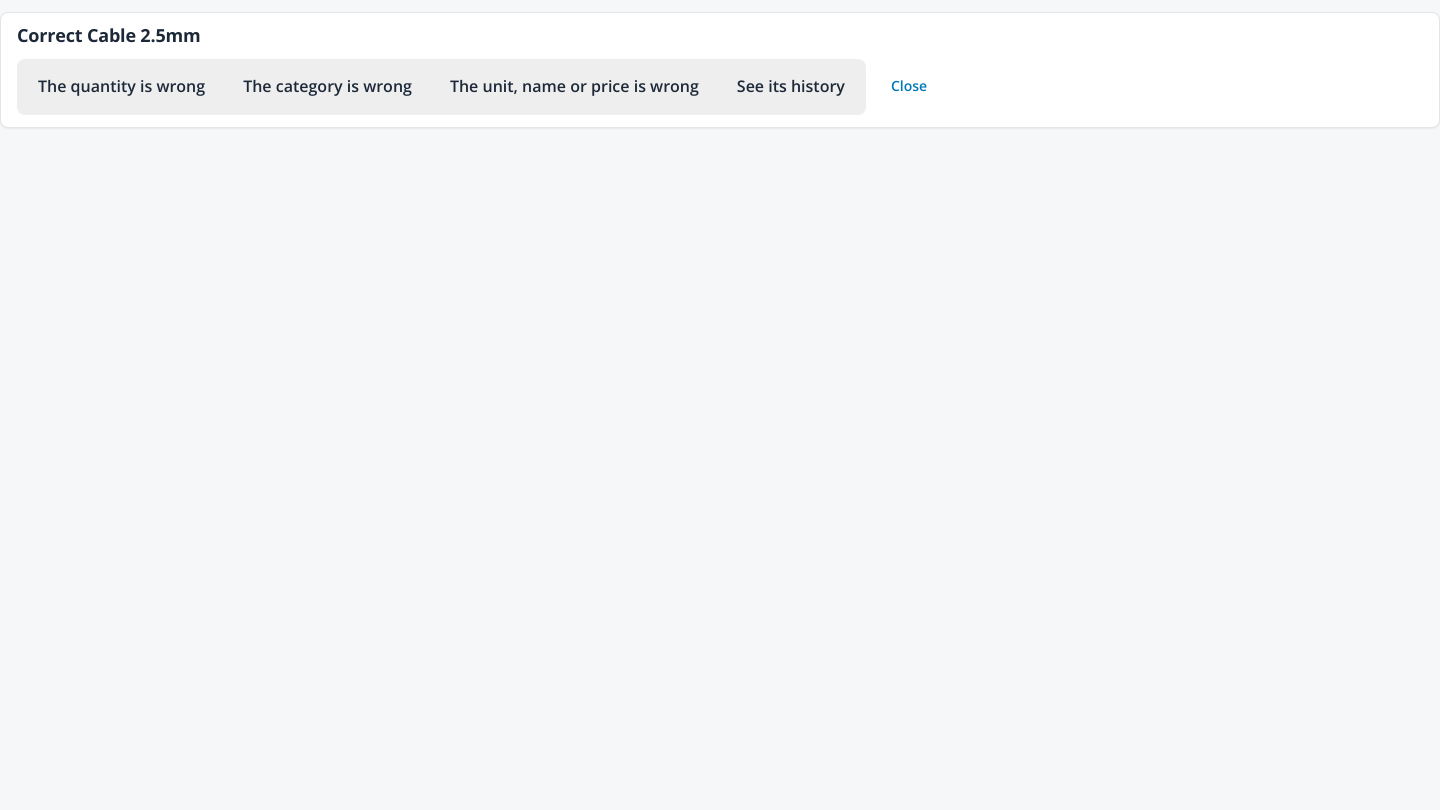
Test: the right quantity › starts with the quantity on the list and waits for a different quantity and a reason
Click the radio button labelled "The quantity is wrong".
click(122, 87)  # box [21,63,222,111]
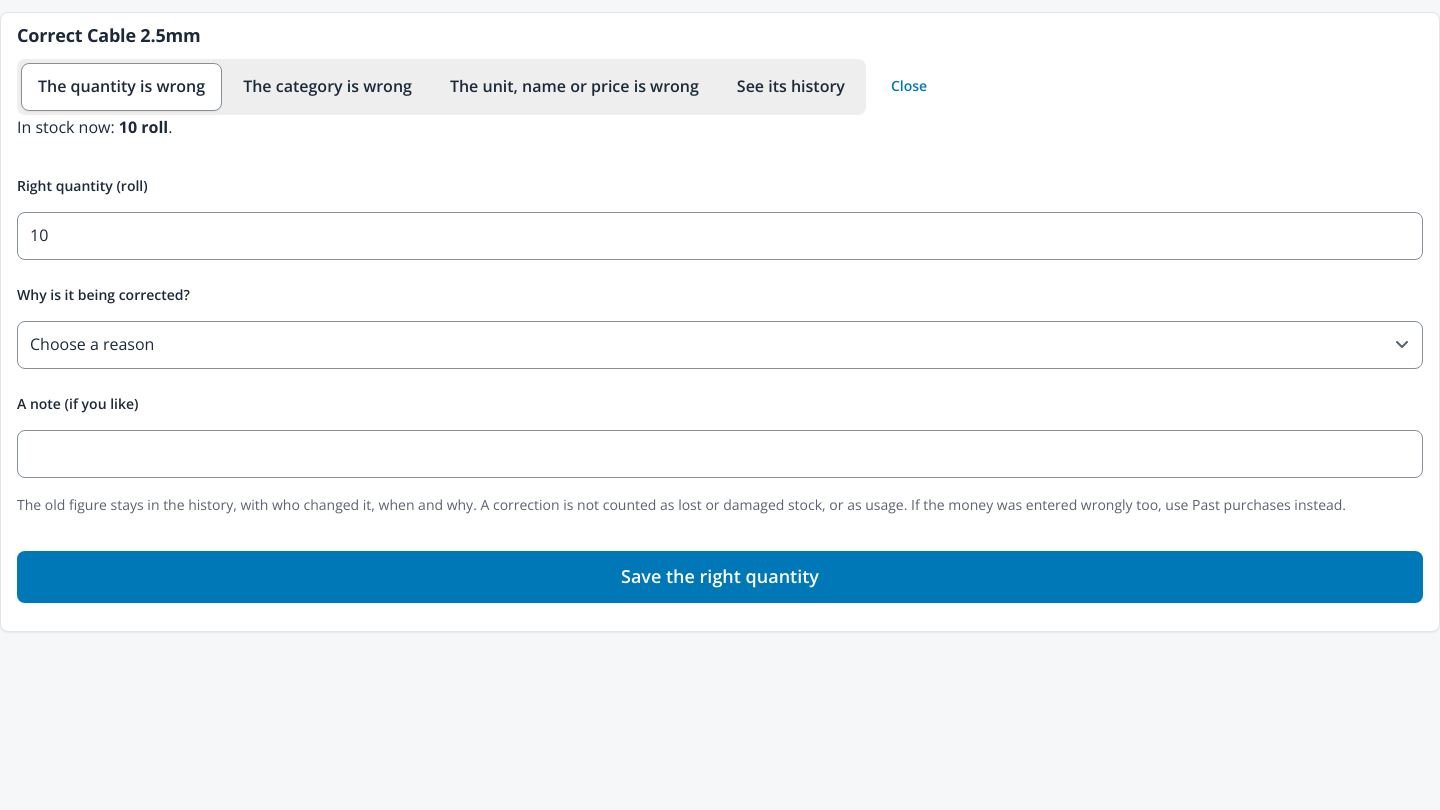
Expected: the field labelled "Right quantity (roll)" holds "10"
Replace the text in the field labelled "Right quantity (roll)" with "6" at (720, 236), box [17,212,1423,260]
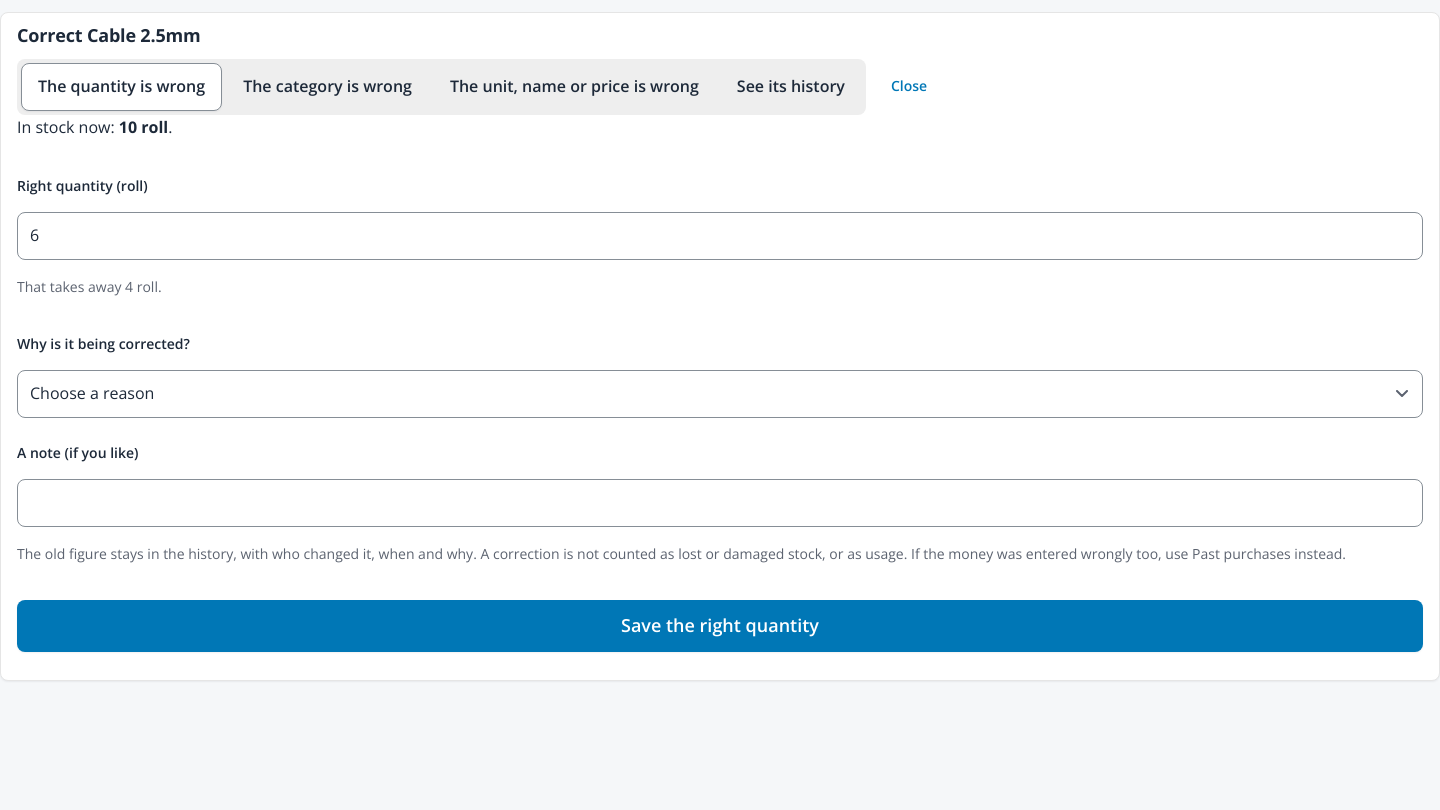
Expected: the text "That takes away 4 roll." is shown, [17,277,162,296]
Select "Entry mistake: I typed it wrongly" in the dropdown labelled "Why is it being corrected?" at (720, 394), box [17,370,1423,418]
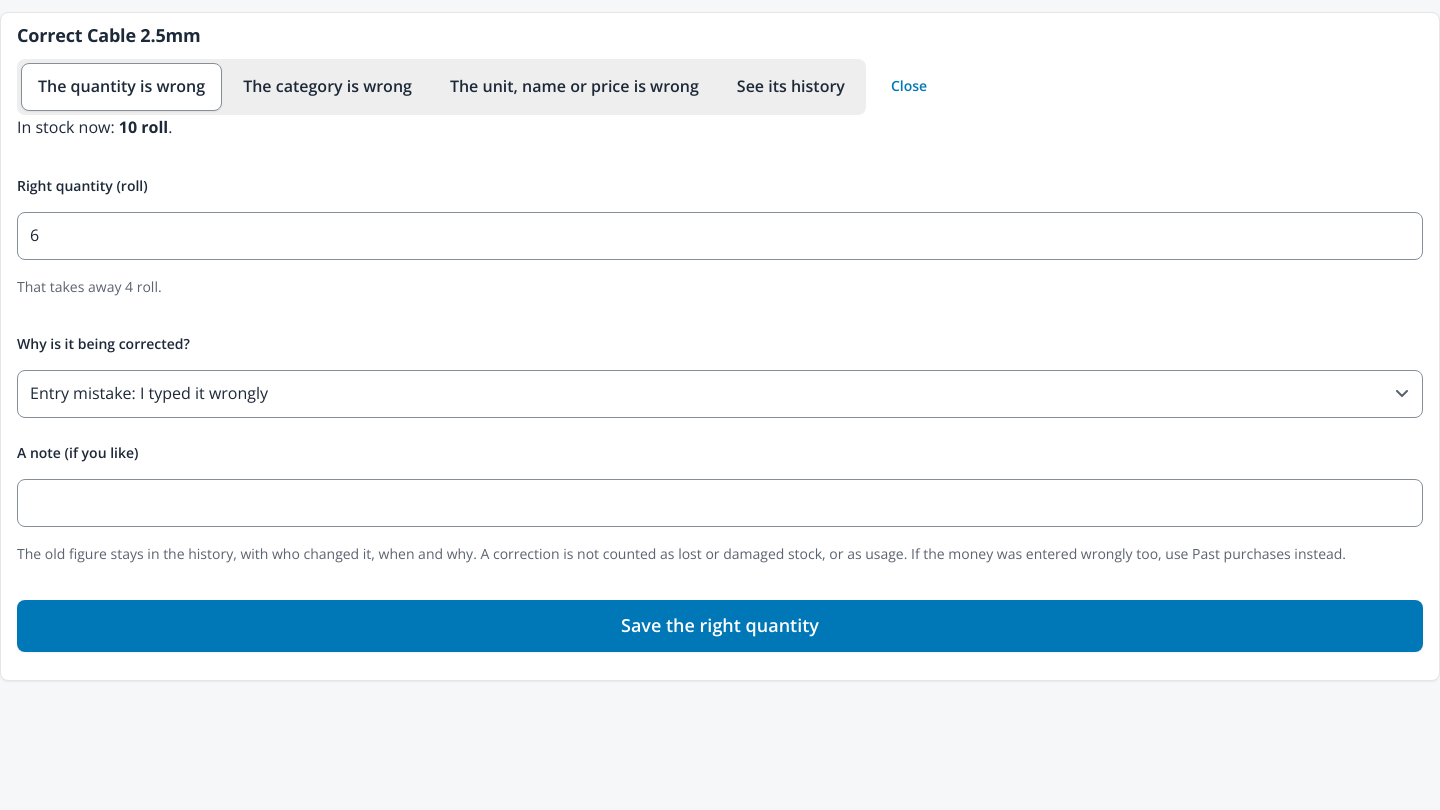
Replace the text in the field labelled "Right quantity (roll)" with "10.0" at (720, 236), box [17,212,1423,260]
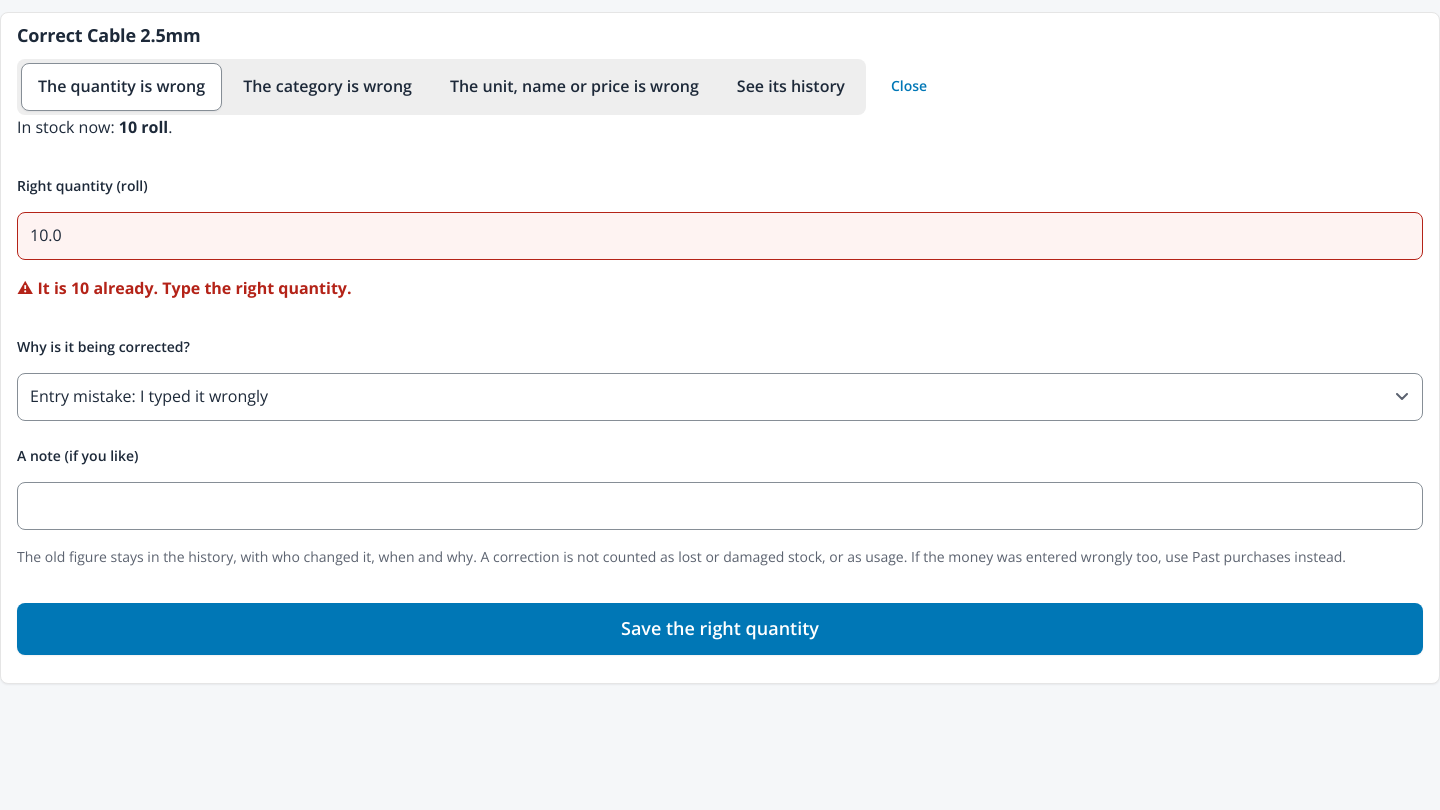
Expected: the message shows "It is 10 already", [38,277,352,299]
Replace the text in the field labelled "Right quantity (roll)" with "abc" at (720, 236), box [17,212,1423,260]
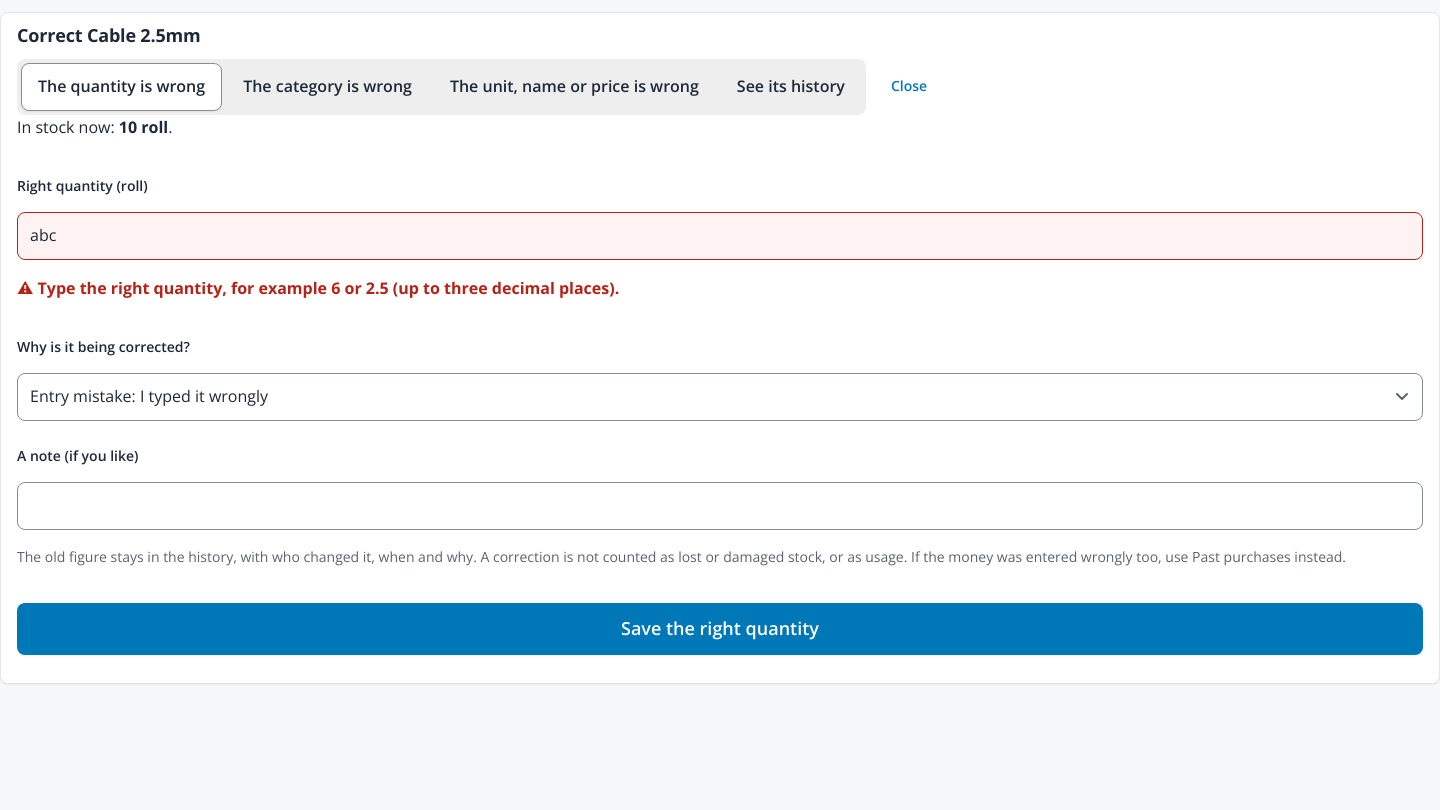
Expected: the button "Save the right quantity" has attribute data-not-ready="true", [17,603,1423,655]
Replace the text in the field labelled "Right quantity (roll)" with "12.5" at (720, 236), box [17,212,1423,260]
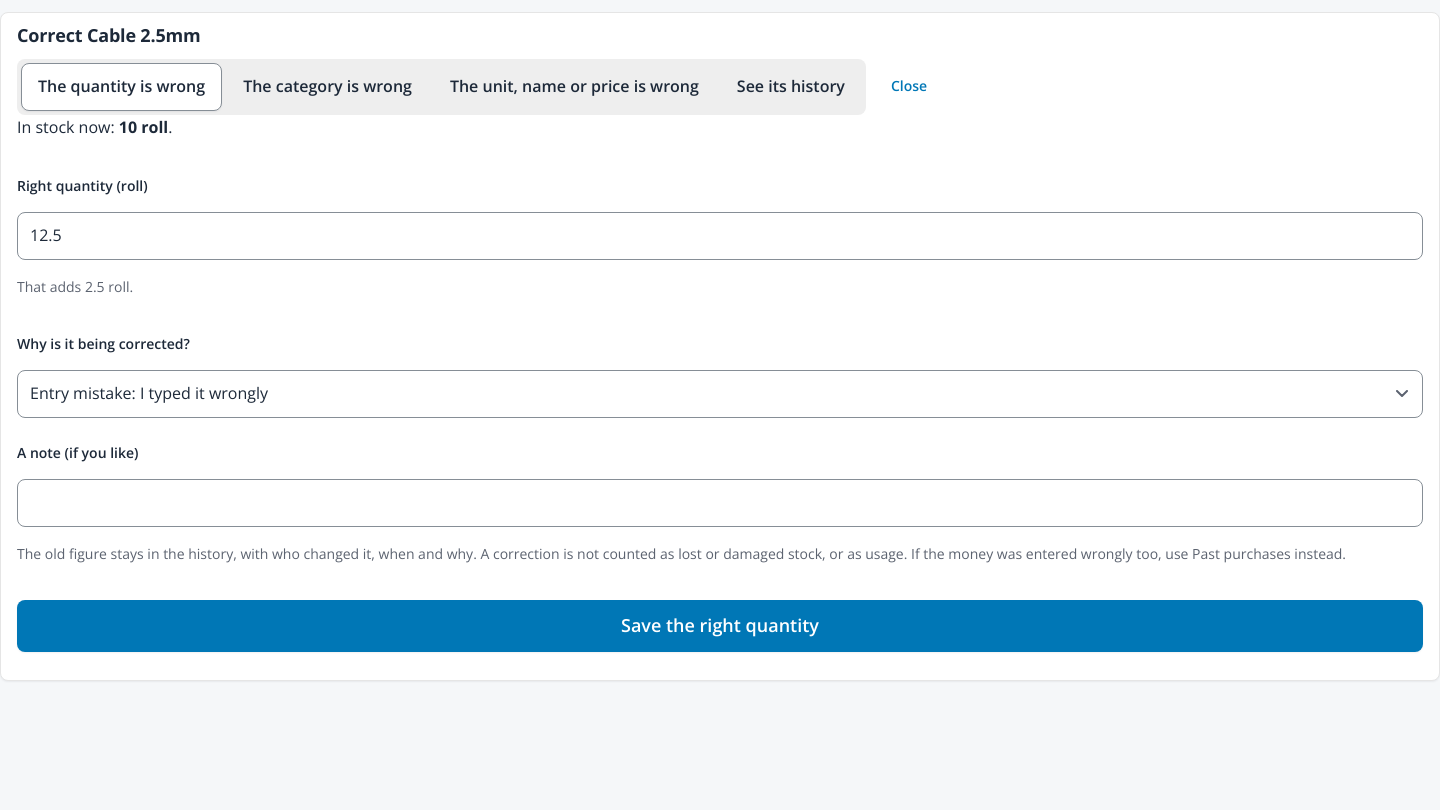
Expected: the text "That adds 2.5 roll." is shown, [17,277,133,296]
